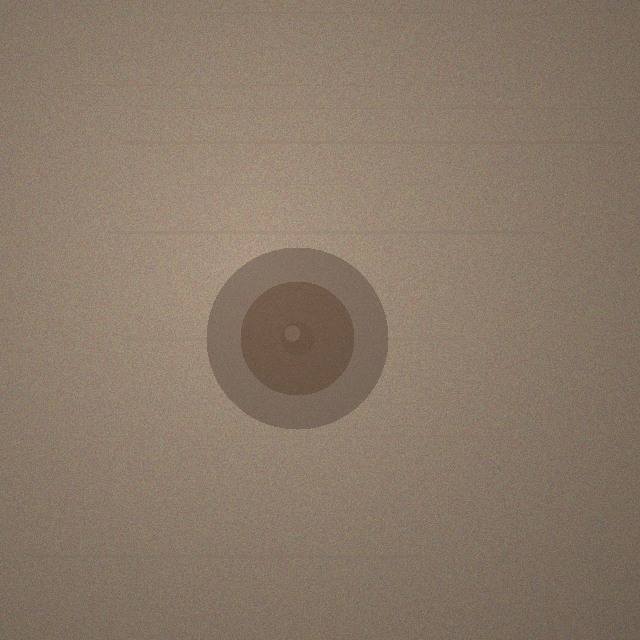good: (206, 247, 388, 429)
